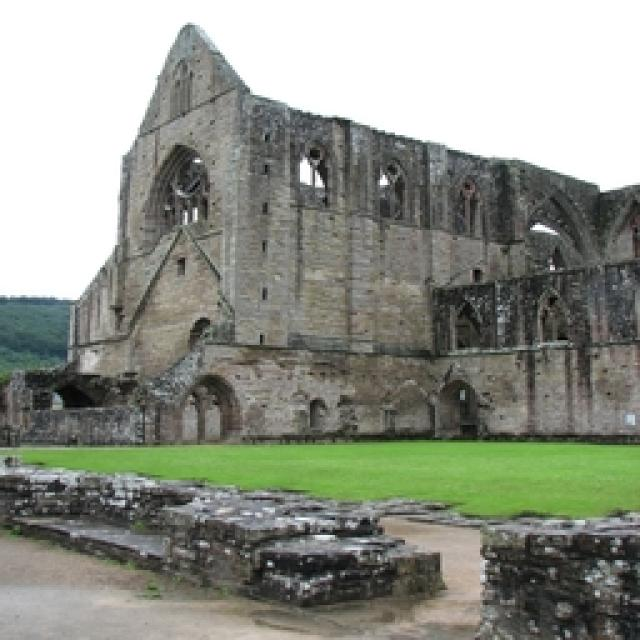Abbey: (60, 64, 639, 445)
